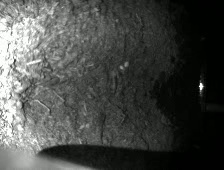corn: (123, 61, 130, 68), (119, 65, 124, 70)
